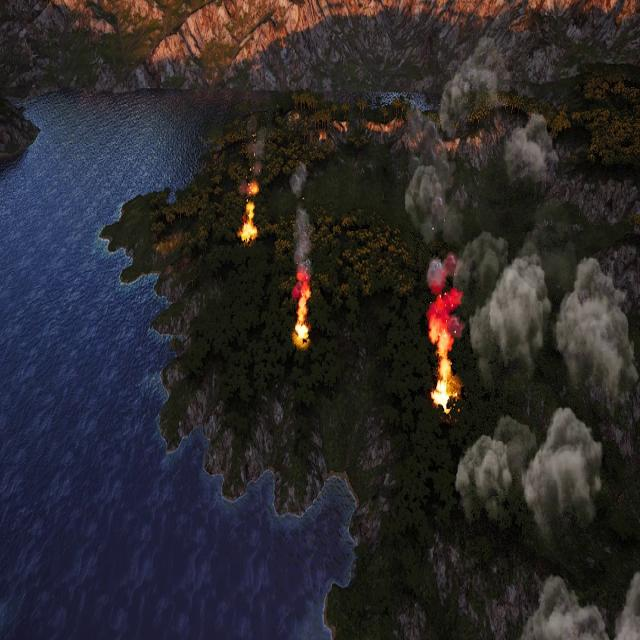fire: (429, 287, 461, 363), (292, 273, 313, 344), (240, 202, 258, 240)
smoke: (404, 38, 640, 640), (290, 165, 311, 274), (244, 118, 266, 194)
